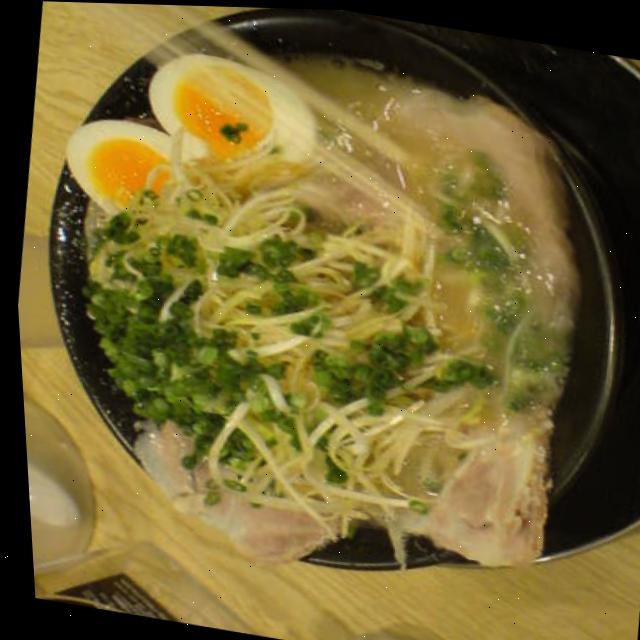面条主食: (13, 0, 640, 634)
